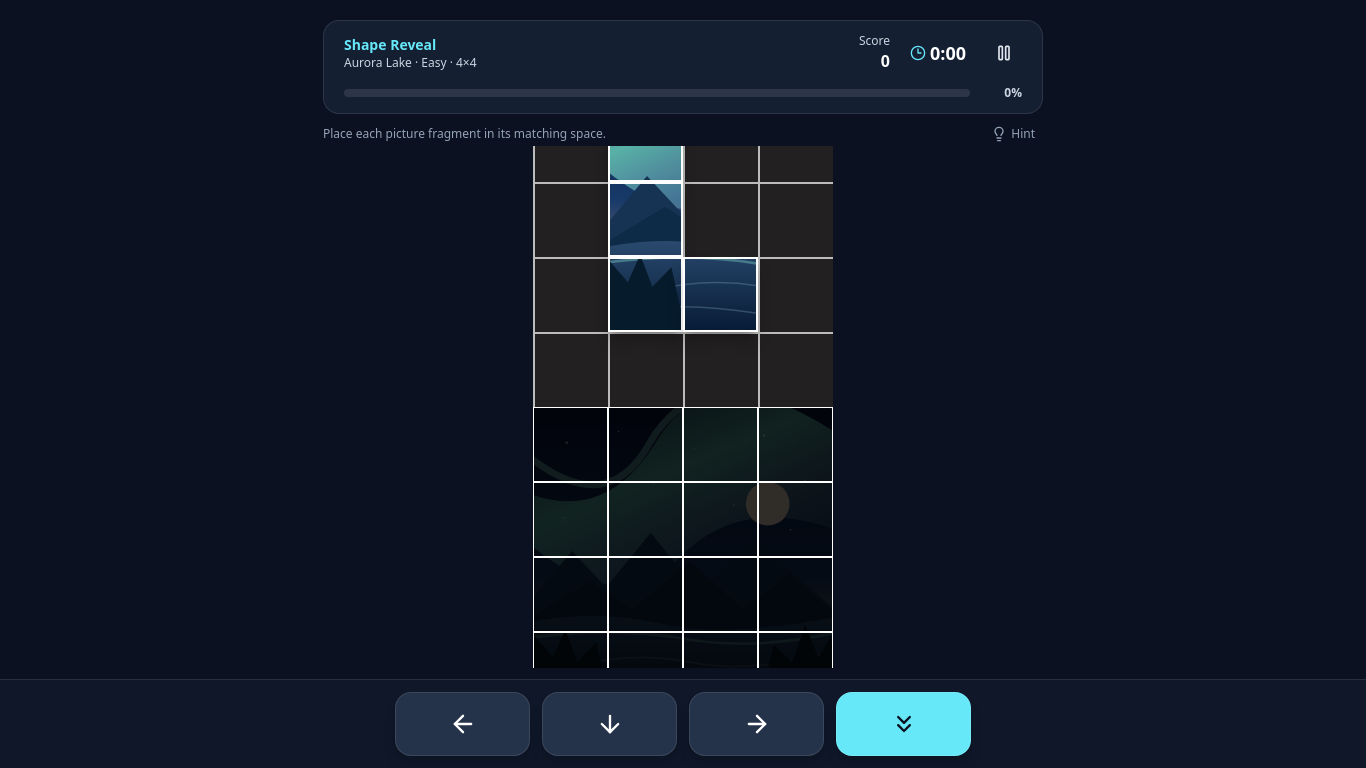
endless run › Free play still works with the bundled pictures
Earlier steps of the test are not shown.
Expected: the button named "Drop at once" is shown, [836,692,971,756]
Click the button "Hint" at [1013, 134], box [983,122,1043,146]
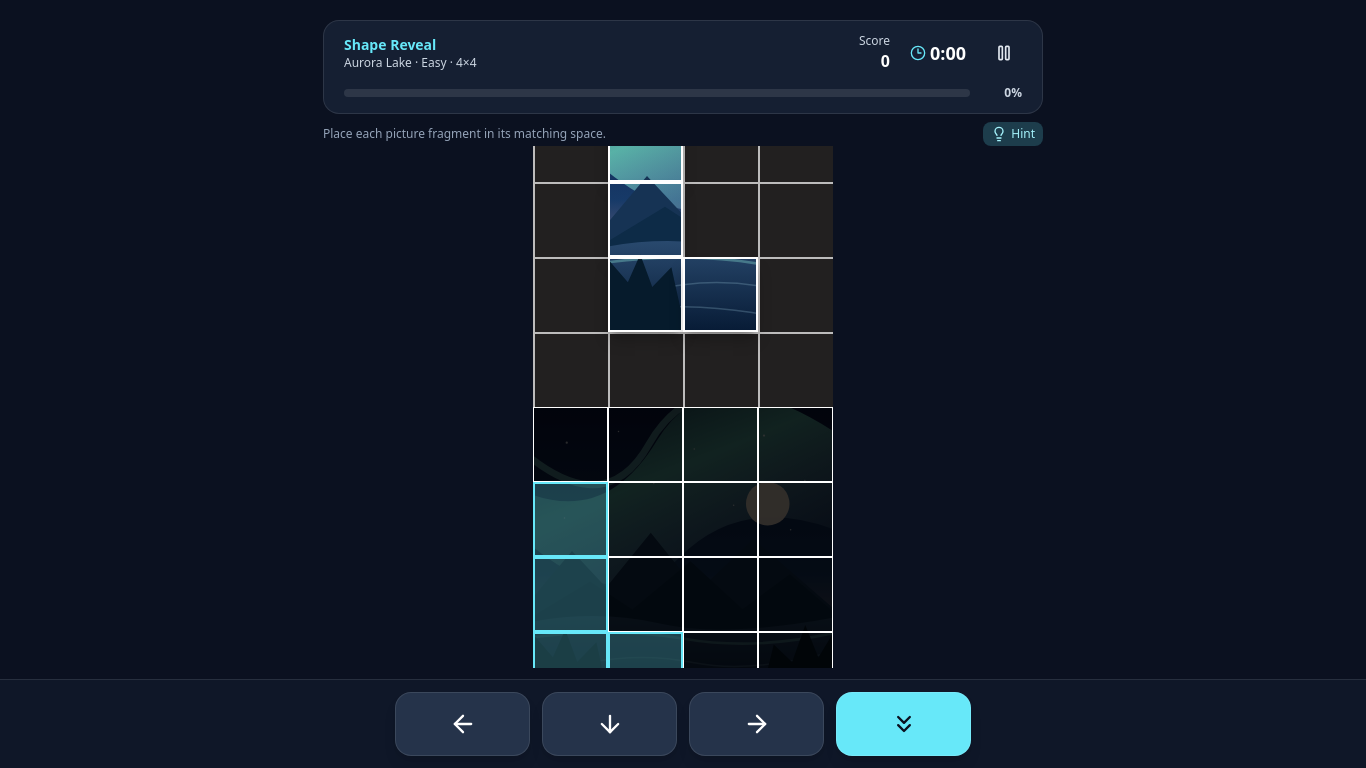
Press ArrowLeft
Press Space
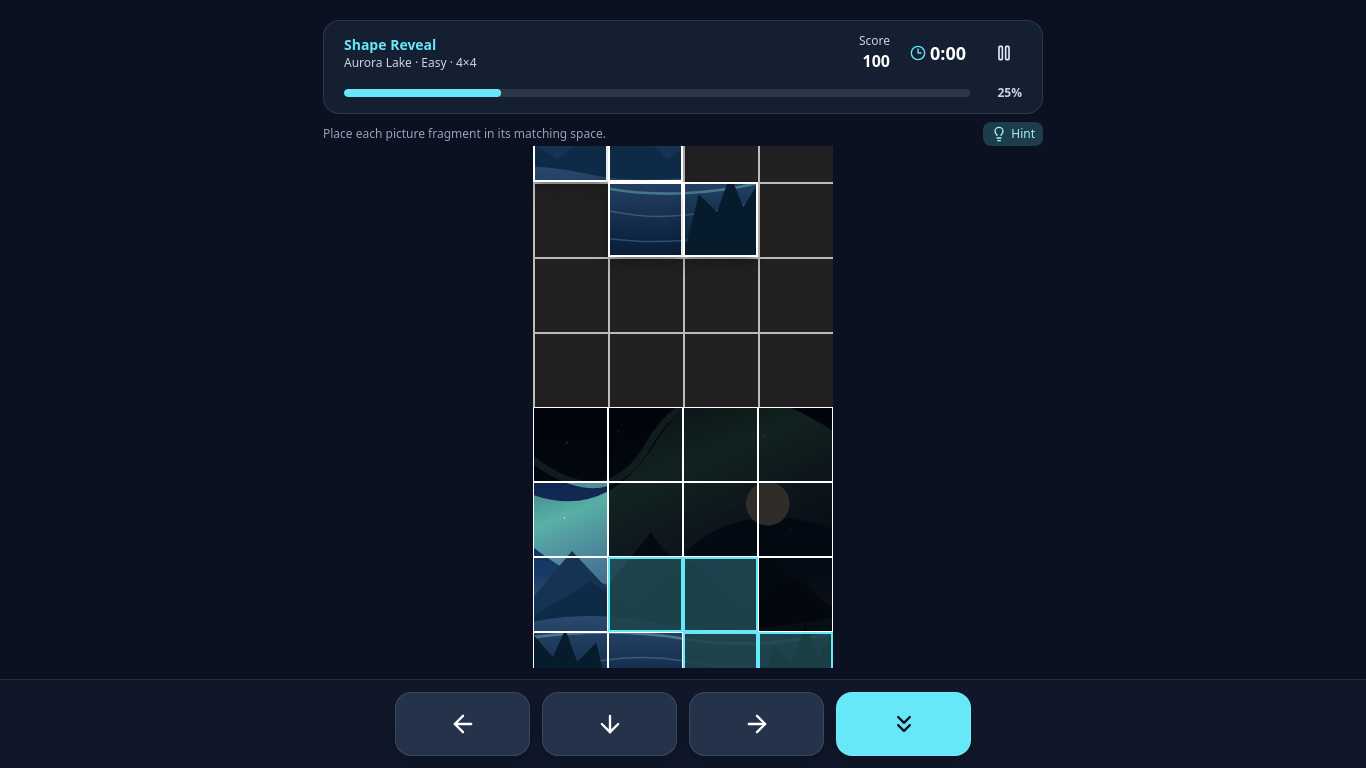
Press ArrowRight
Press Space
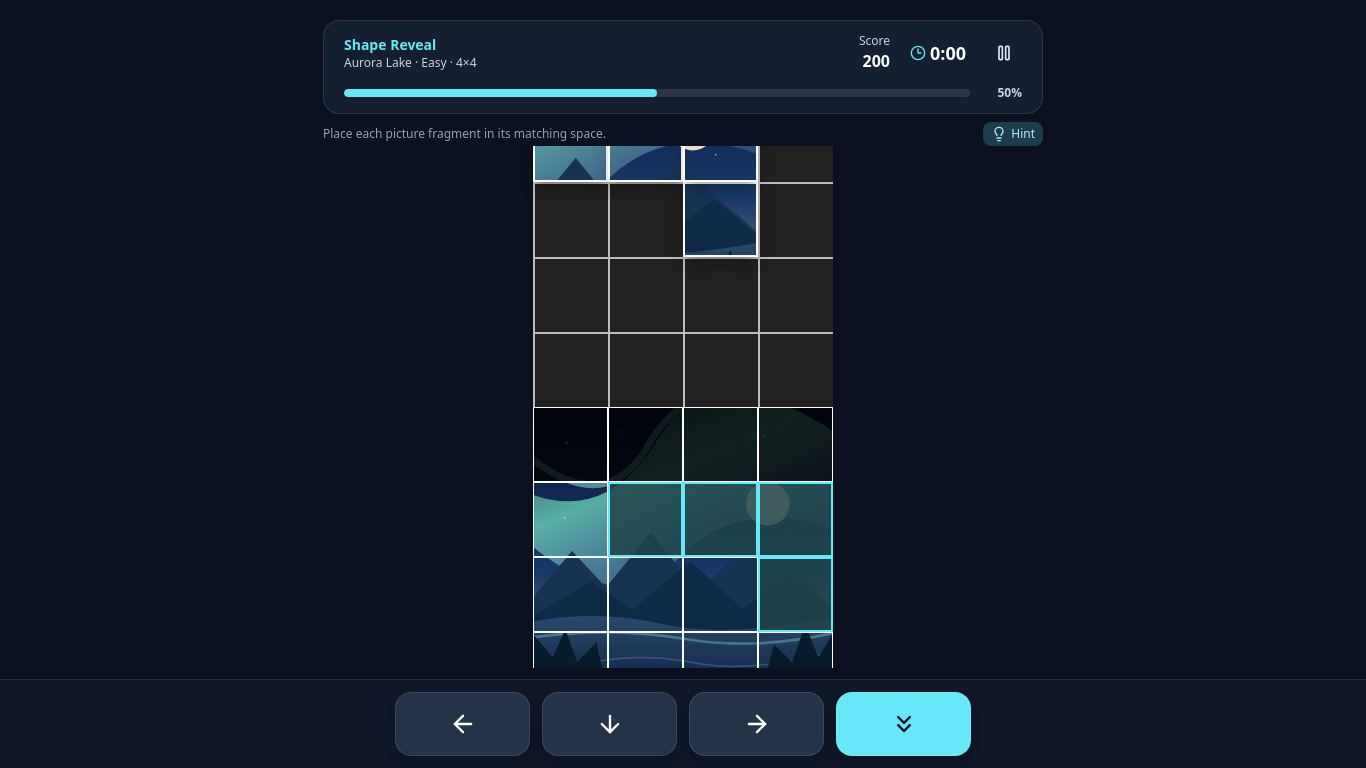
Press ArrowRight
Press Space
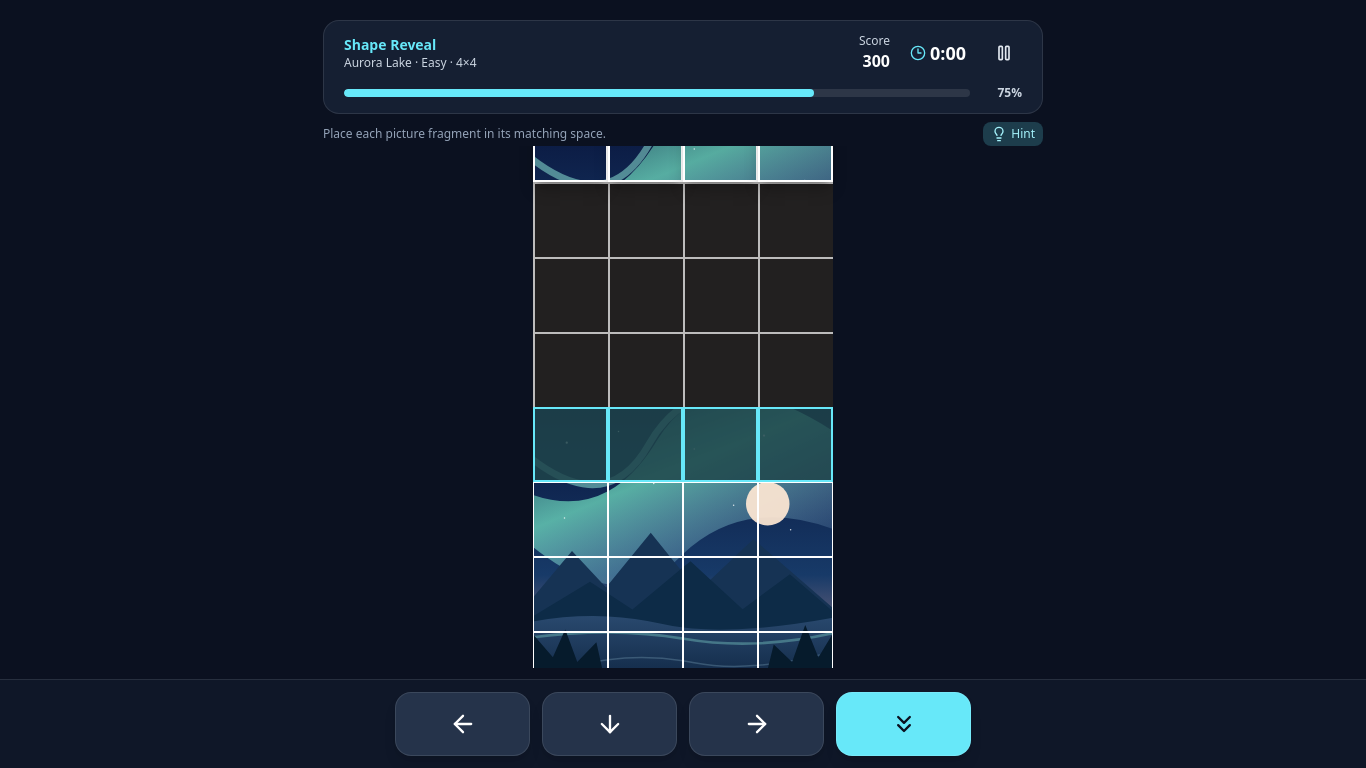
Press Space
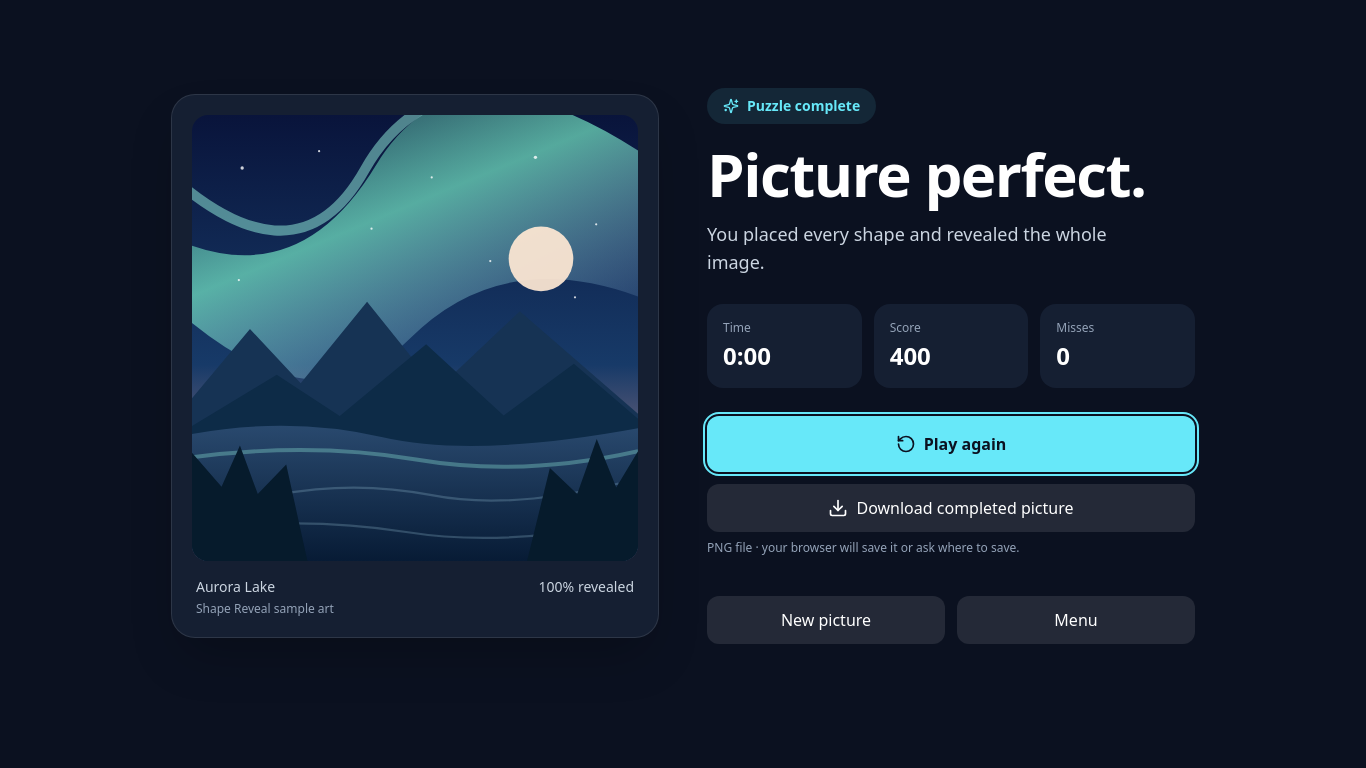
Result: the heading reads "Picture perfect." at [707,133,1146,215]
Result: the button "Download completed picture" is shown at [707,484,1195,532]
Result: the button "Play again" is shown at [707,416,1195,472]
